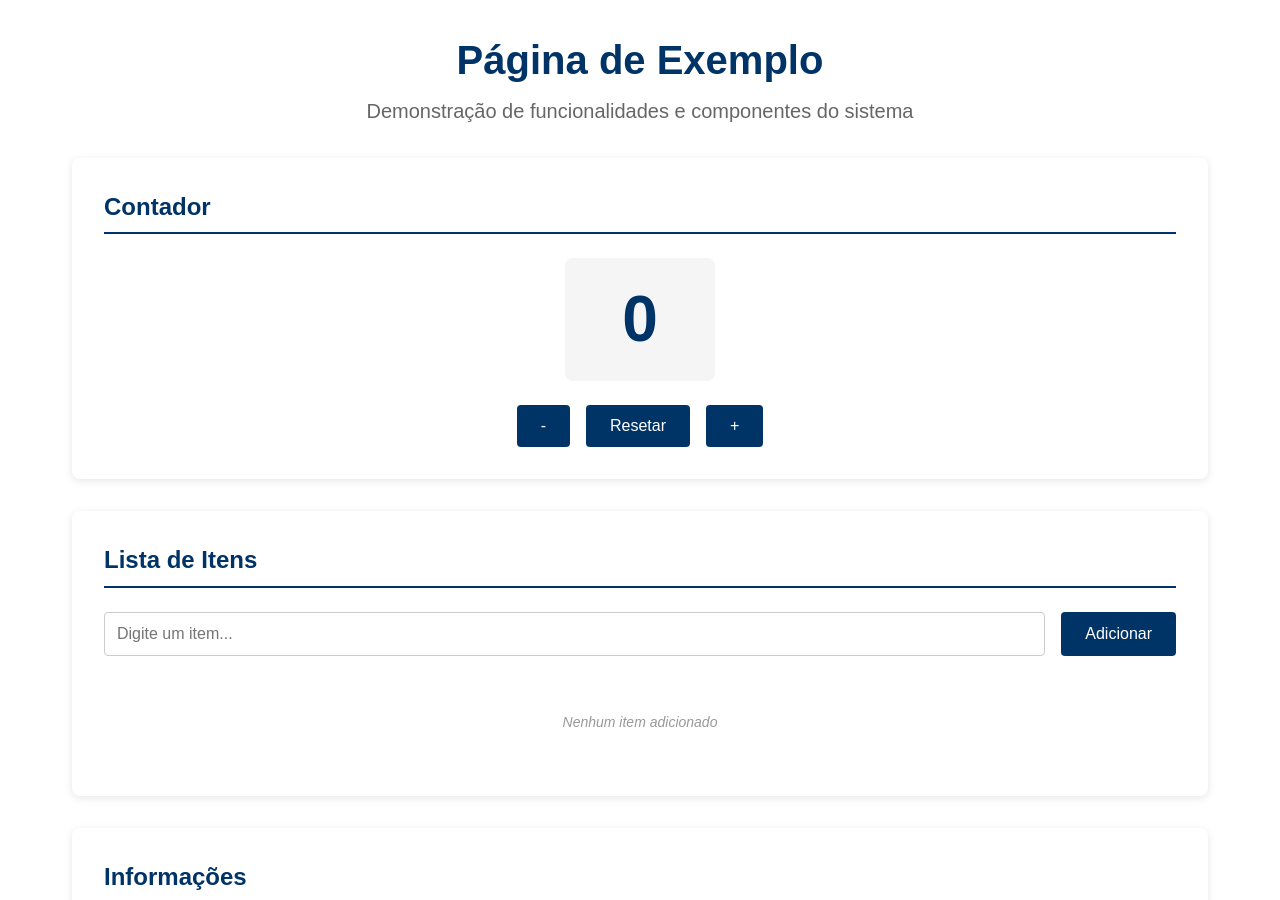
Scenario: Example › Counter functionality › decrements counter when - button is clicked
The width and height of the screenshot is (1280, 900).
Click the button with test id "example-btn-decrement" at {"x": 543, "y": 426}, box top-left (517, 405), bottom-right (570, 447)
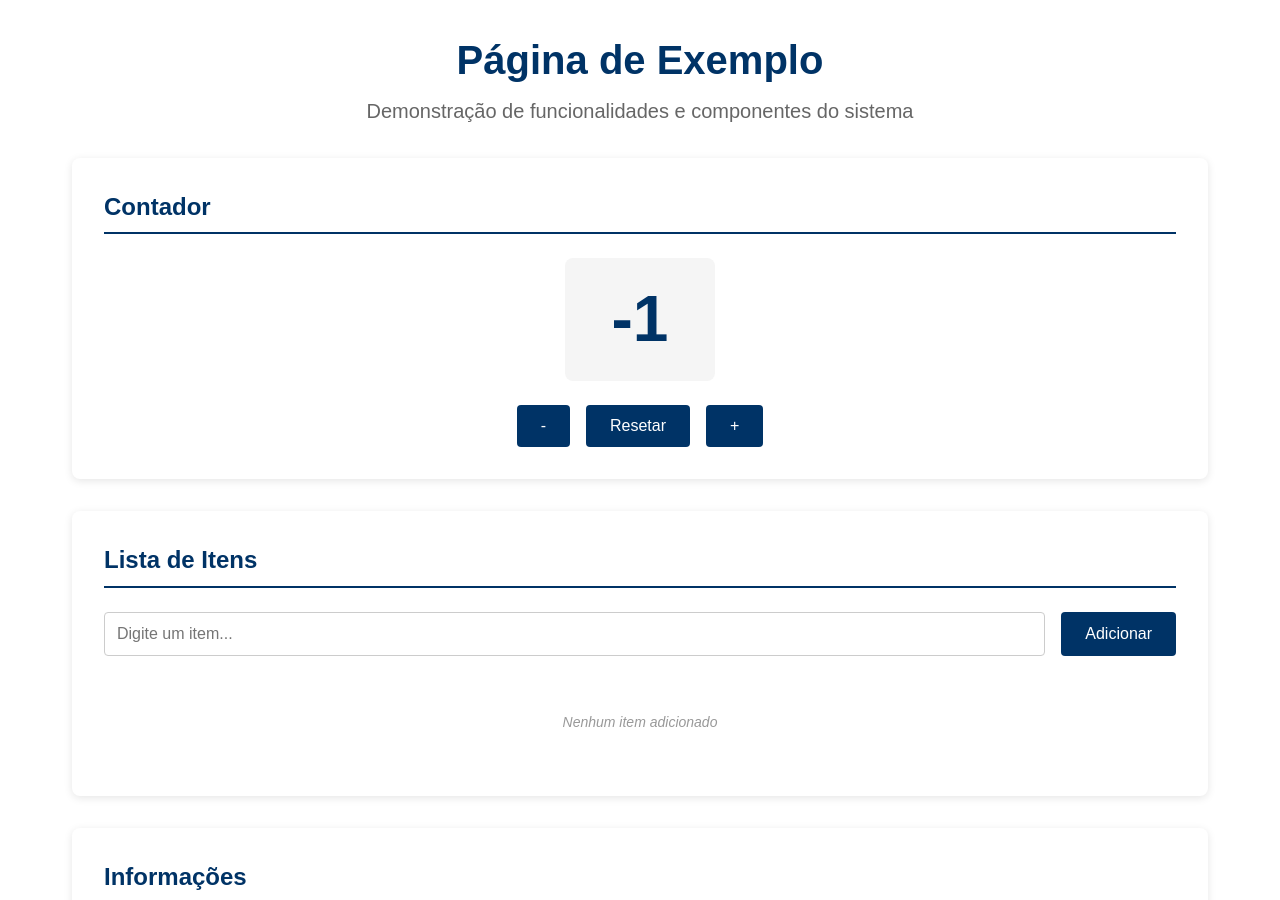
Expected: the text with test id "example-counter-display" reads "-1", top-left (612, 283), bottom-right (668, 355)
Click the button with test id "example-btn-decrement" at {"x": 543, "y": 426}, box top-left (517, 405), bottom-right (570, 447)
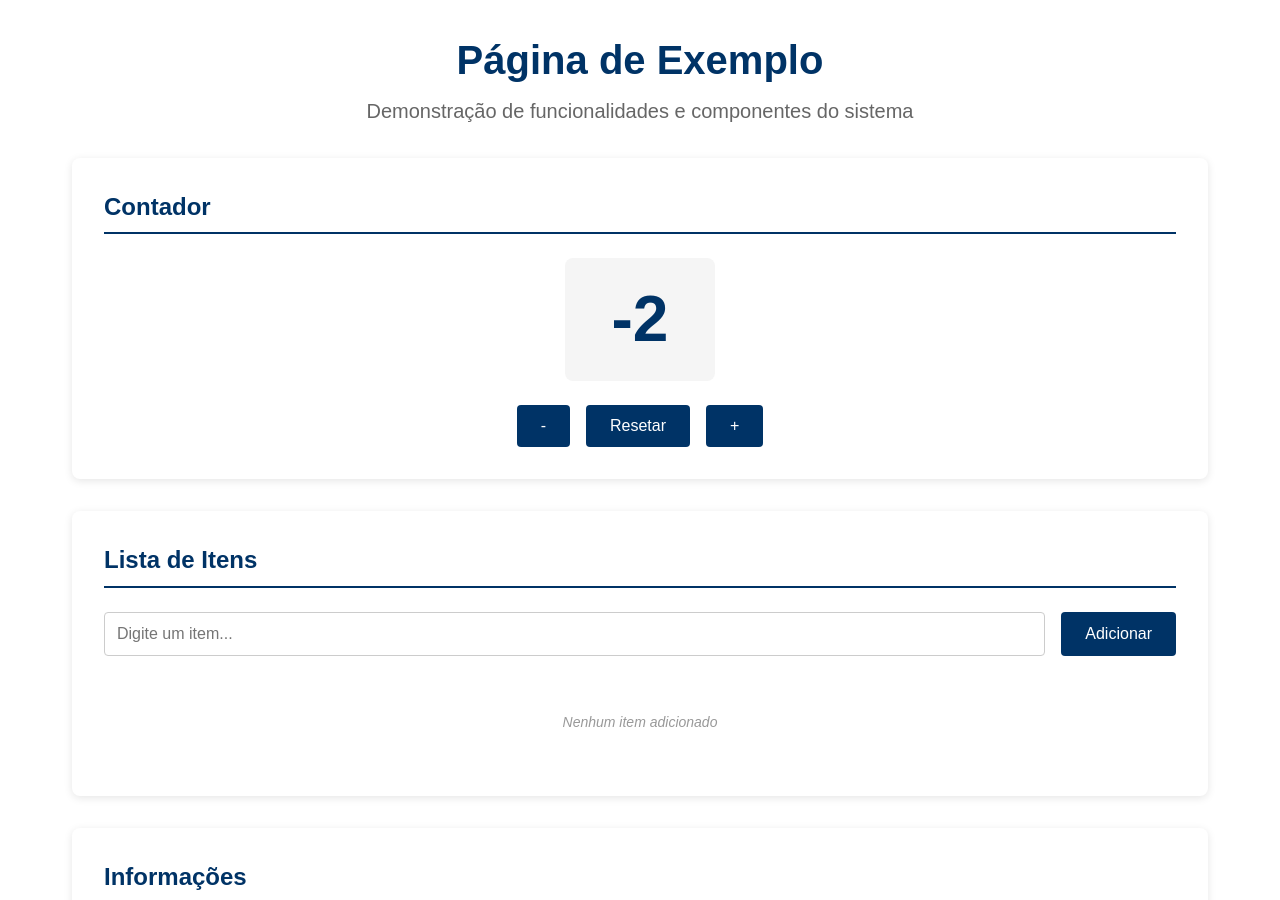
Expected: the text with test id "example-counter-display" reads "-2", top-left (612, 283), bottom-right (668, 355)
